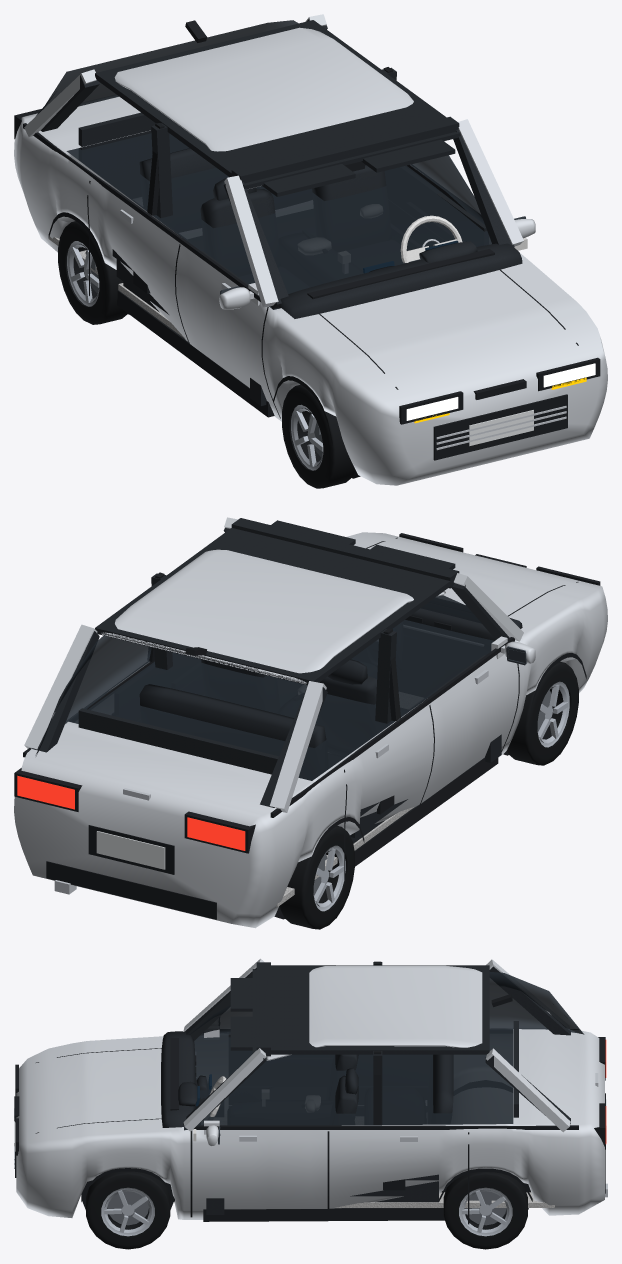
Rendered from car_mini.glb.
The picture shows the model from 3 angles, top to bottom: view 1: azimuth 30°, elevation 25°; view 2: azimuth 150°, elevation 25°; view 3: azimuth 270°, elevation 25°; orthographic projection. The views are drawn at different scales.
Parts seen in each view (by area): view 1: Body, Cabin, Glass, Trim, Wheel_FR, Wheel_RR, Seats, HeadLamp, Chrome, PlateF, SteeringWheel, Carpet; view 2: Body, Cabin, Glass, Trim, Seats, Wheel_RR, Wheel_FR, TailLamp, PlateR, Carpet, Chrome; view 3: Body, Glass, Cabin, Trim, Wheel_FL, Wheel_RL, Seats, Carpet.
Boxes of the visible parts, <box> form: Body: <box>14,14,607,485</box>; Cabin: <box>40,19,522,405</box>; Glass: <box>36,20,491,309</box>; Trim: <box>14,20,600,478</box>; Wheel_FR: <box>282,384,355,488</box>; Wheel_RR: <box>58,221,127,324</box>; Seats: <box>139,148,386,228</box>; HeadLamp: <box>406,363,595,420</box>; Chrome: <box>120,209,566,450</box>; PlateF: <box>469,410,533,446</box>; SteeringWheel: <box>400,215,527,262</box>; Carpet: <box>48,236,185,339</box>; Body: <box>14,517,607,928</box>; Cabin: <box>32,518,522,843</box>; Glass: <box>35,595,494,780</box>; Trim: <box>14,533,600,919</box>; Seats: <box>139,659,376,748</box>; Wheel_RR: <box>279,826,354,929</box>; Wheel_FR: <box>507,661,578,765</box>; TailLamp: <box>17,775,245,850</box>; PlateR: <box>96,831,165,869</box>; Carpet: <box>276,806,414,907</box>; Chrome: <box>54,669,488,894</box>; Body: <box>16,958,604,1219</box>; Glass: <box>184,972,584,1130</box>; Cabin: <box>161,962,570,1214</box>; Trim: <box>14,961,605,1225</box>; Wheel_FL: <box>86,1171,170,1249</box>; Wheel_RL: <box>443,1172,527,1249</box>; Seats: <box>335,1054,453,1113</box>; Carpet: <box>335,1192,554,1207</box>.
Bounding box in the file's own units: 1.92 × 1.53 × 3.99.
Materials: 17 (4 with a texture image).
